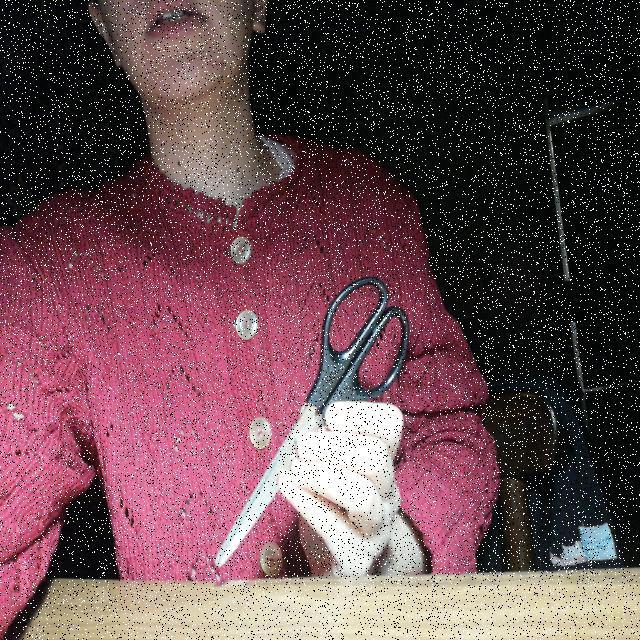scissors: (198, 252, 437, 593)
